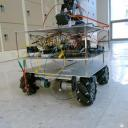cart: (15, 24, 111, 106)
